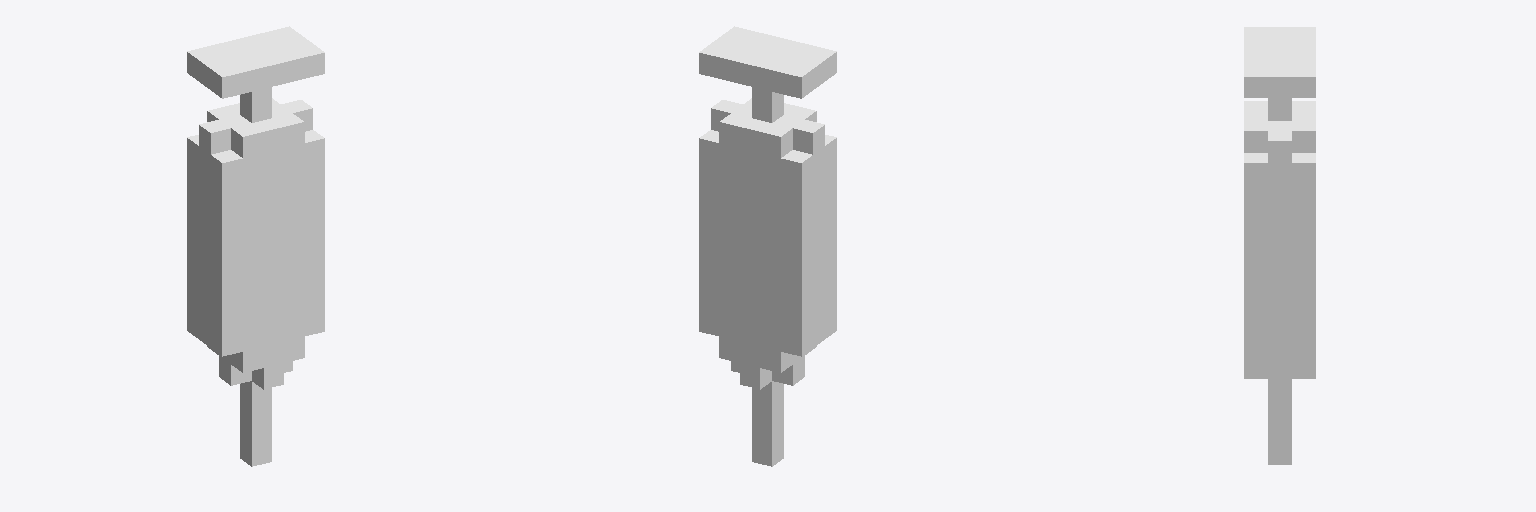
Rendered from syringe.obj.
3 renders of one model, left to right at view 1: azimuth 30°, elevation 25°; view 2: azimuth 150°, elevation 25°; view 3: azimuth 270°, elevation 25°, orthographic.
Parts seen in each view (by area): view 1: object 1; view 2: object 1; view 3: object 1.
Part boxes in pixels (bbox=[...]): object 1: bbox=[187, 26, 324, 466]; object 1: bbox=[699, 26, 836, 466]; object 1: bbox=[1244, 27, 1315, 464].
Size of the model in its own units: 0.5 by 1.9 by 0.3.